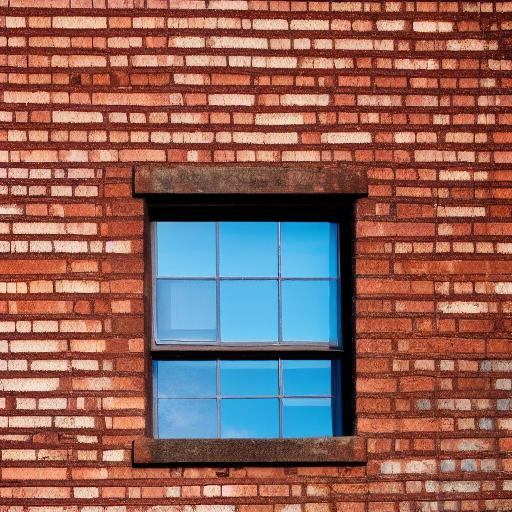Window: (131, 160, 372, 468)
